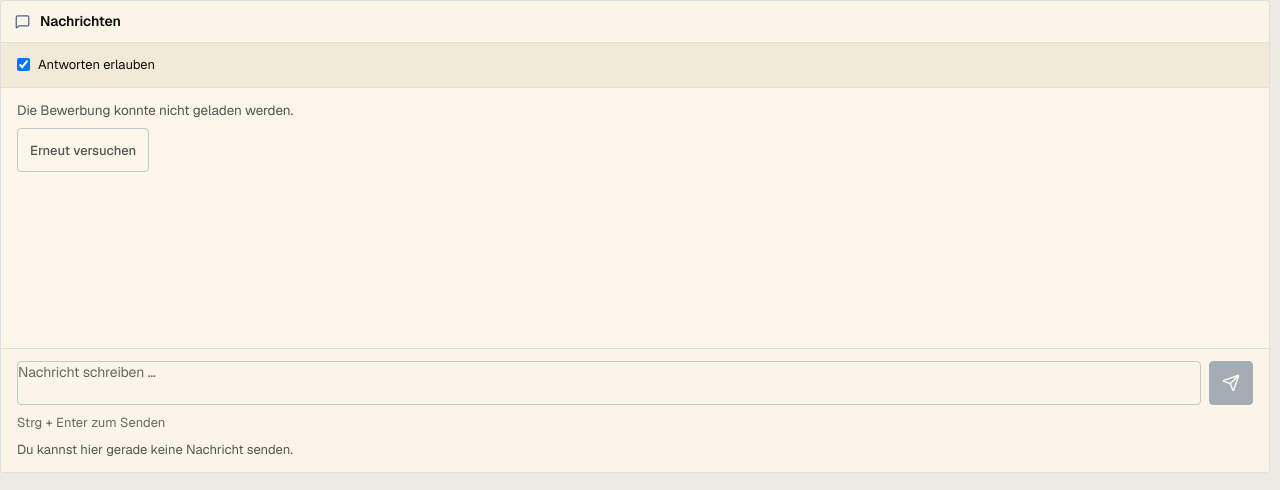
Scenario: ApplicantWorkspaceView on wide viewports › retries a failed conversation load without reopening the workflow
Click the button "Erneut versuchen": (83, 150) [17, 128, 149, 172]
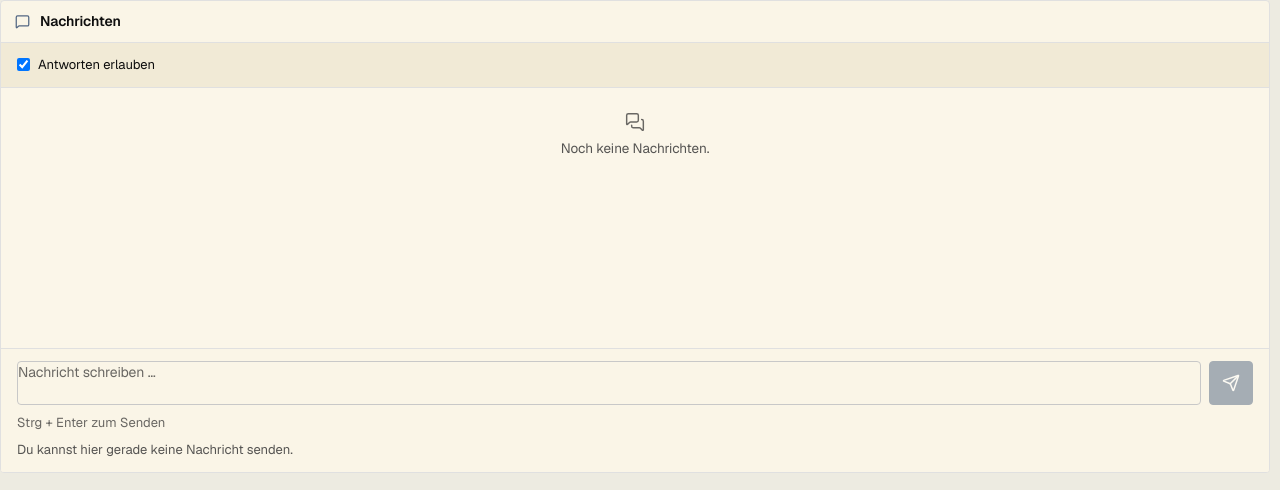
Expected: the text "Noch keine Nachrichten." is shown, [561, 138, 709, 158]
Expected: the button "Erneut versuchen" is gone
